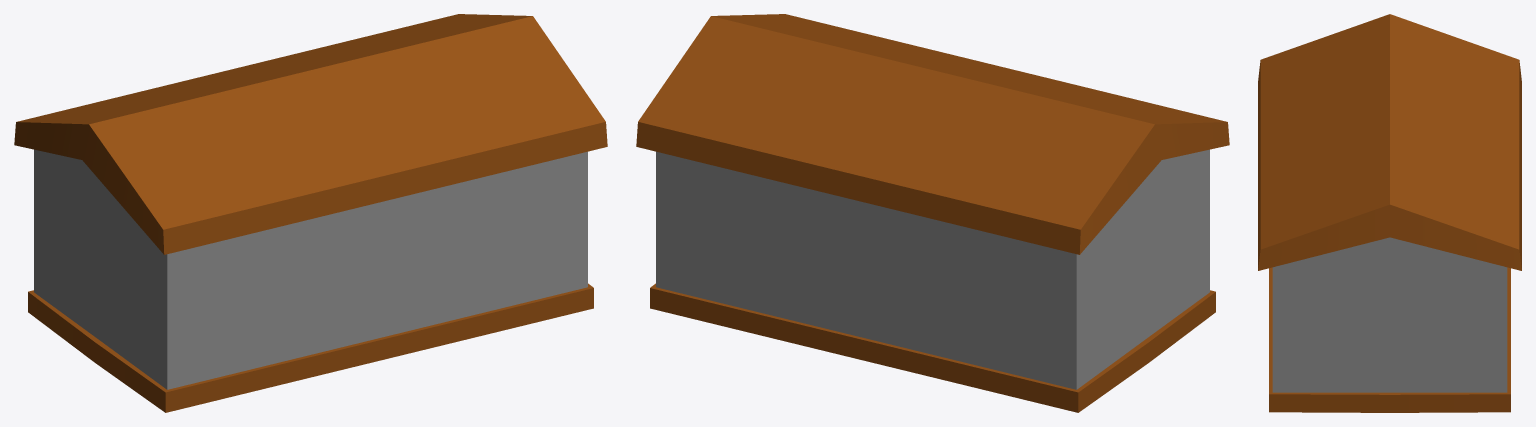
The model's file is fruteira.FBX.
The picture shows the model from 3 angles, left to right: view 1: azimuth 30°, elevation 25°; view 2: azimuth 150°, elevation 25°; view 3: azimuth 270°, elevation 25°; orthographic projection. The views are drawn at different scales.
Parts seen in each view (by area): view 1: Box051; view 2: Box051; view 3: Box051.
Boxes of the visible parts, left/top/right/bottom form: Box051: left=14, top=14, right=607, bottom=412; Box051: left=636, top=14, right=1229, bottom=412; Box051: left=1258, top=14, right=1521, bottom=412.
Bounding box in the file's own units: 364 × 183 × 207.
